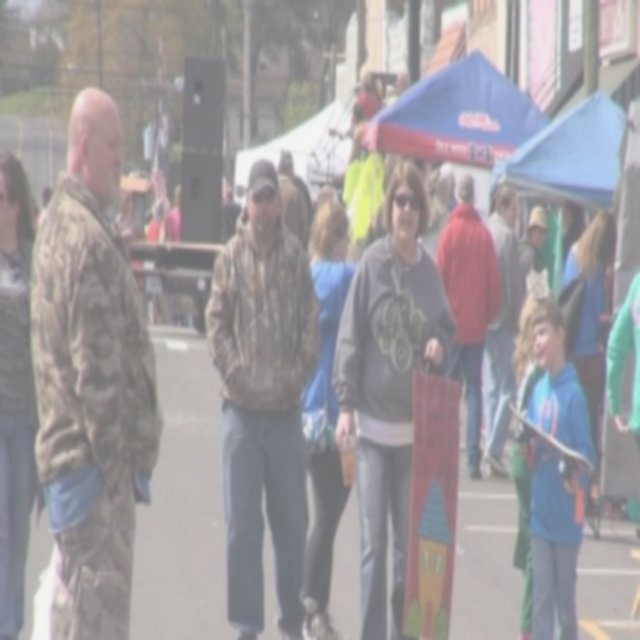pessoa: (21, 79, 166, 638), (328, 156, 464, 639), (202, 154, 323, 638), (506, 294, 599, 639), (295, 194, 363, 639), (0, 146, 47, 639), (432, 167, 502, 481), (551, 204, 618, 520), (519, 300, 568, 638), (474, 182, 526, 482), (604, 268, 640, 444), (350, 62, 412, 155), (143, 182, 183, 326), (417, 159, 460, 249), (366, 152, 404, 242), (275, 149, 309, 246), (517, 202, 550, 296), (292, 172, 340, 232), (110, 187, 144, 260), (560, 195, 588, 273), (220, 184, 243, 250), (30, 186, 53, 235)
